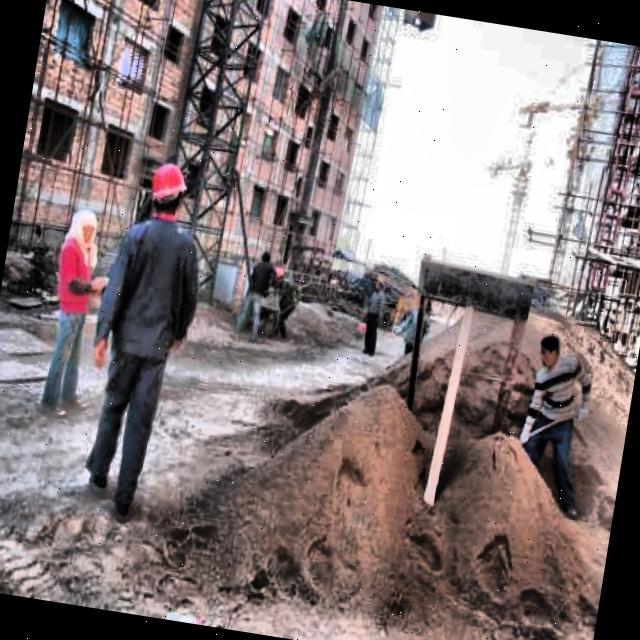helmet: (146, 158, 192, 222)
